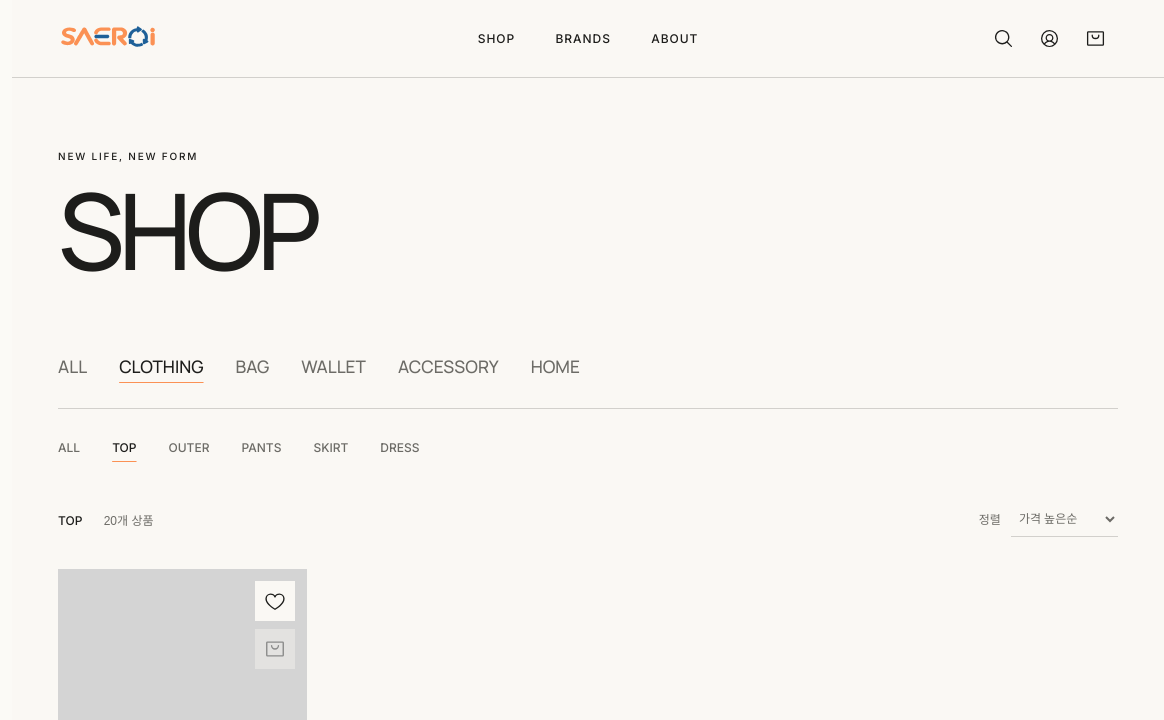
consumer SHOP › resets page on category and sort changes and maps URL enums correctly
Select "가격 낮은순" in the dropdown labelled "정렬" at x=1064, y=520, box [1011,502,1118,538]
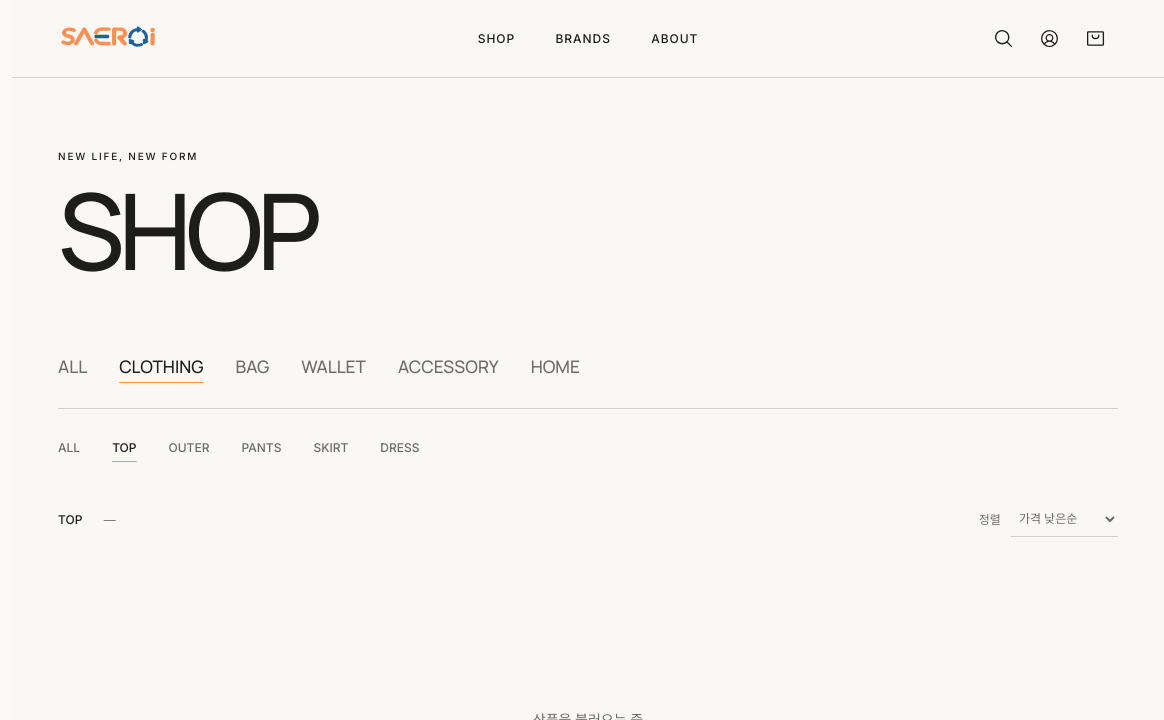
Click the link "OUTER" at x=189, y=448, box [168,440,209,455]
(page scrolled)
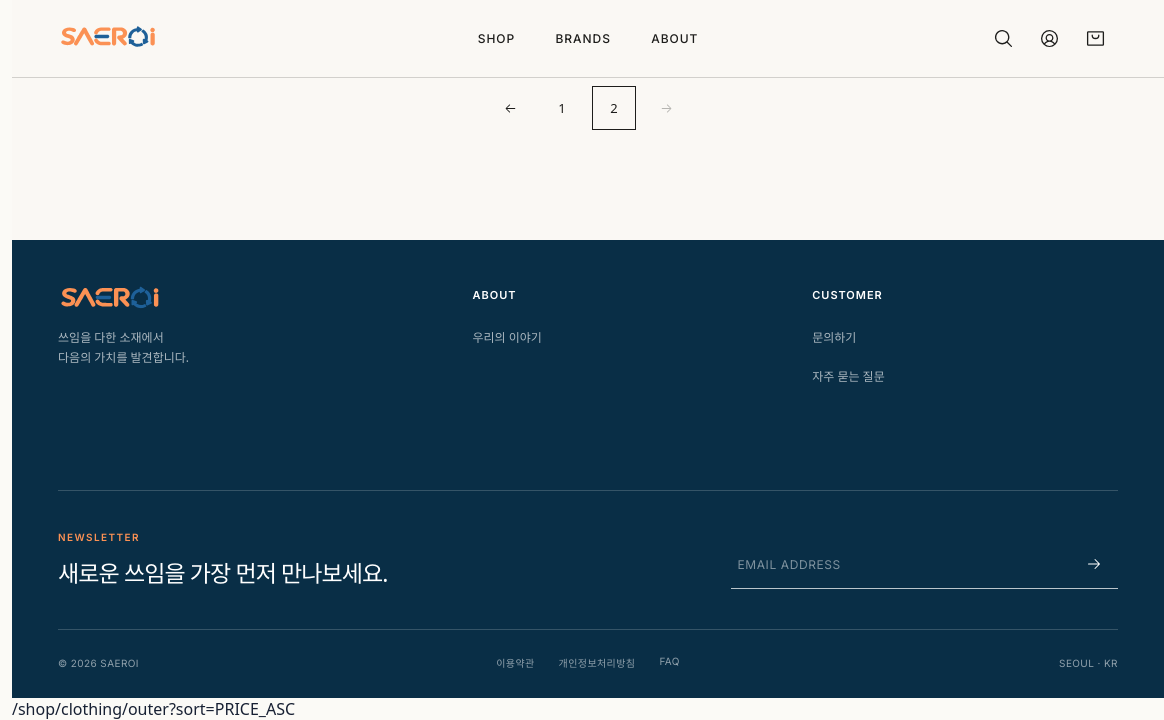
Expected: the text named "현재 위치" reads "/shop/clothing/outer?sort=PRICE_ASC", [12,698,295,719]
